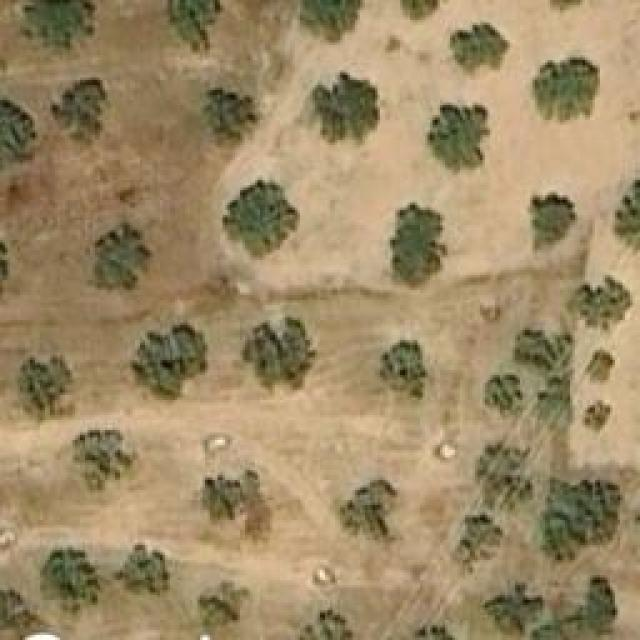Tree: (540, 477, 623, 565), (130, 320, 208, 400), (222, 180, 300, 258), (243, 315, 316, 395), (513, 328, 576, 411), (390, 203, 448, 288), (202, 470, 270, 540), (40, 547, 110, 615), (87, 222, 155, 290), (73, 430, 143, 493), (50, 78, 110, 151), (340, 478, 398, 551), (313, 73, 378, 138), (428, 105, 488, 173), (440, 23, 510, 78), (568, 275, 633, 333), (25, 0, 98, 50), (480, 443, 530, 513), (18, 358, 73, 421), (165, 0, 230, 52), (535, 58, 598, 110), (450, 515, 503, 575), (112, 545, 170, 598), (203, 88, 256, 143), (380, 340, 428, 398), (0, 98, 38, 171), (0, 587, 47, 640), (612, 167, 640, 255), (533, 195, 576, 248), (298, 0, 361, 30), (485, 375, 523, 413), (585, 350, 615, 383), (583, 400, 613, 433), (398, 0, 451, 18), (405, 625, 458, 640)
